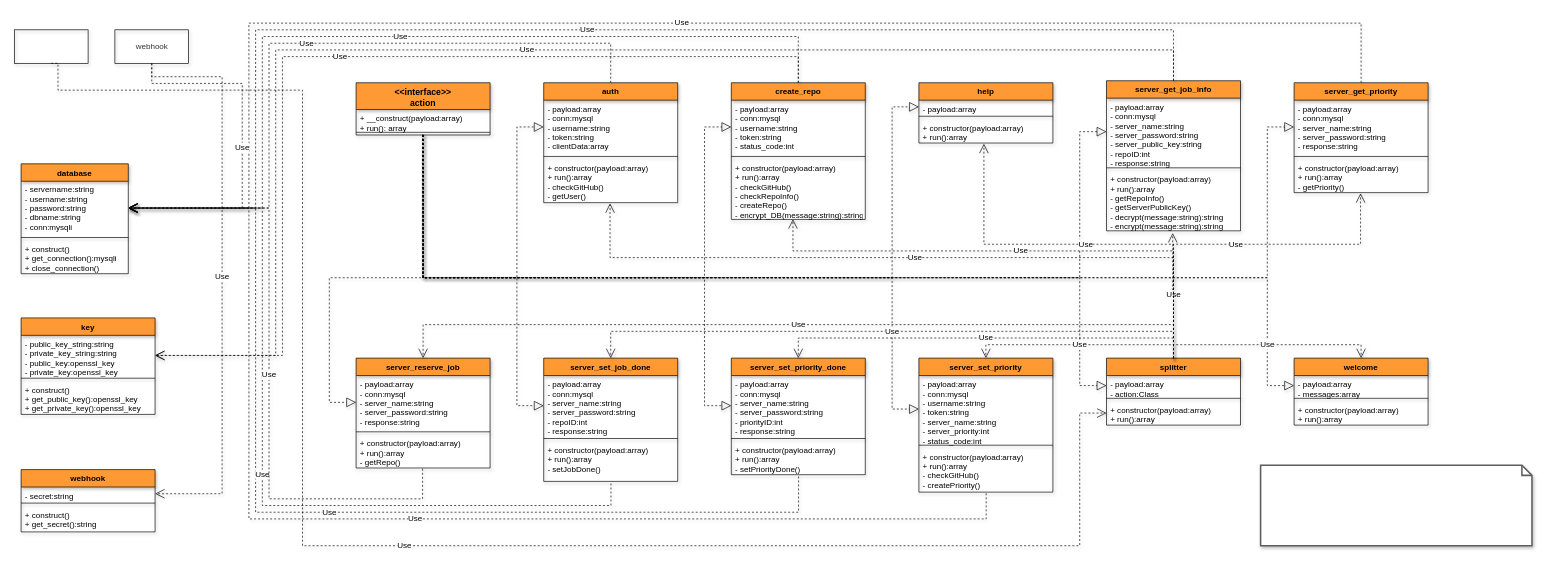
This 1548x572 diagram has some shape labels left out. Here are the shapes that lost their labels. From the top down, the centre of each, then its label:
(x=51, y=47): index
(x=1396, y=506): Class UML of rest-createstructure By Castellani Davide (@DavideC03)
